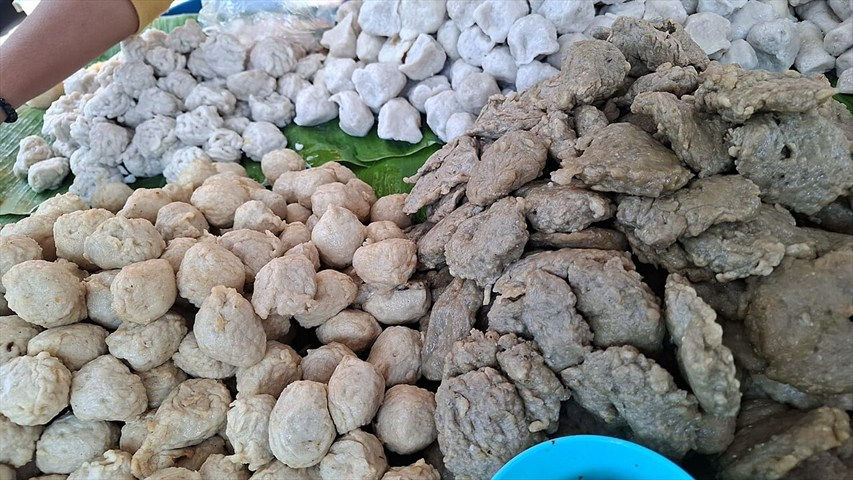Pempek: (39, 43, 734, 470)
